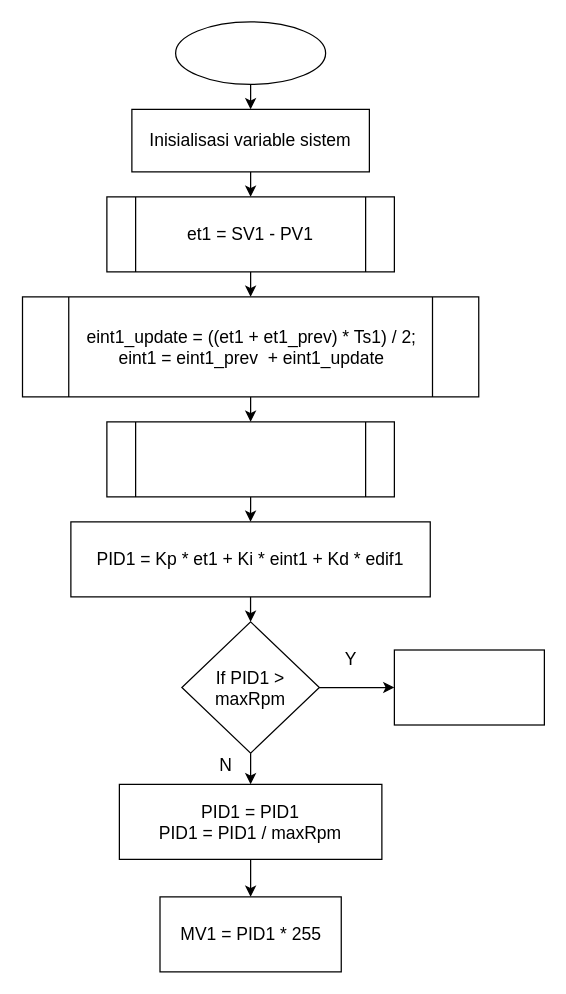
The diagram is 566 pixels wide and 994 high, and some of its shapes have lost their labels. The box of each missing label's shape, as (x1, y1, x2, y2) in pixels:
edif1 = (et1 - et1_prev) / Ts1: (106, 421, 394, 497)
Mulai: (174, 21, 326, 84)
PID1 = maxRpm: (393, 649, 544, 725)
